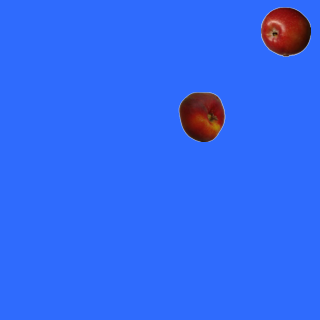Apple Braeburn: (260, 6, 310, 56)
Nectarine Flat: (176, 91, 226, 141)
